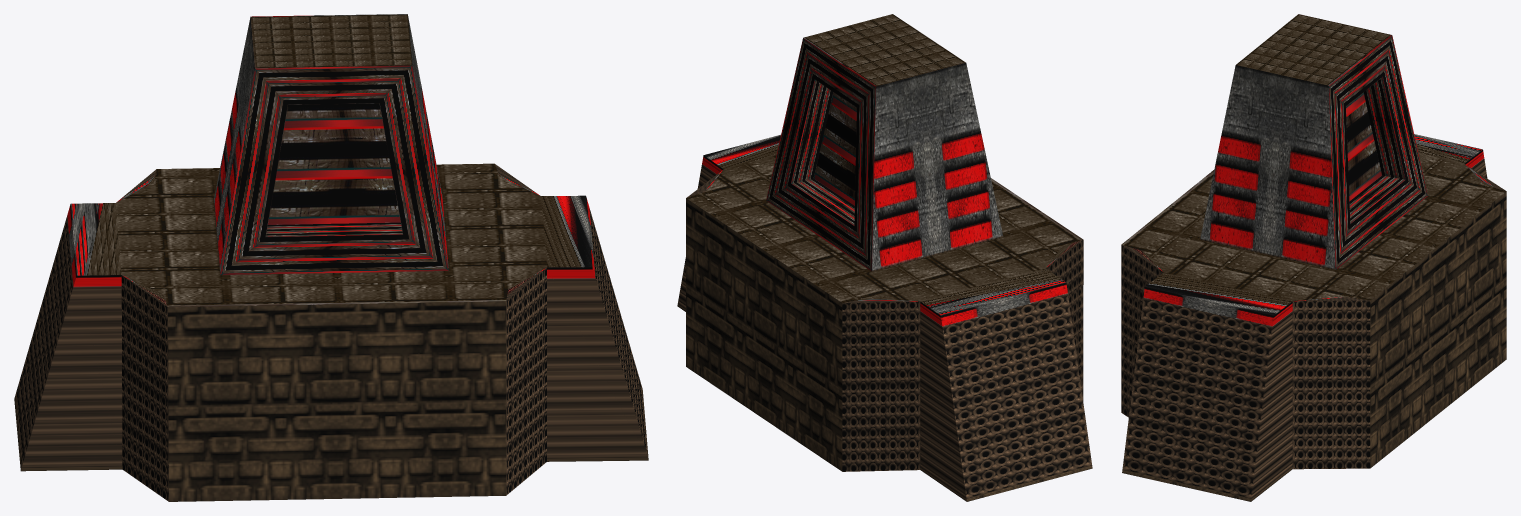
File: City_Building002.fbx
The picture shows the model from 3 angles, left to right: view 1: azimuth 30°, elevation 25°; view 2: azimuth 150°, elevation 25°; view 3: azimuth 270°, elevation 25°; orthographic projection. The views are drawn at different scales.
Parts seen in each view (by area): view 1: City_Building_002:Building_002; view 2: City_Building_002:Building_002; view 3: City_Building_002:Building_002.
Part boxes in pixels (<box>): City_Building_002:Building_002: <box>14,14,648,501</box>; City_Building_002:Building_002: <box>677,14,1092,501</box>; City_Building_002:Building_002: <box>1121,14,1506,501</box>.
Bounding box in the file's own units: 1256 × 848 × 881.
1 material, 1 textured.
